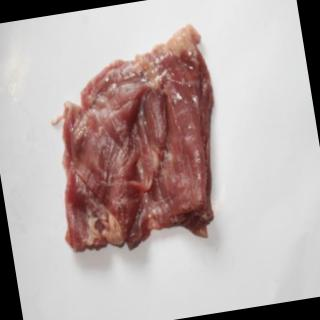Daging Sapi: (38, 27, 236, 260)
